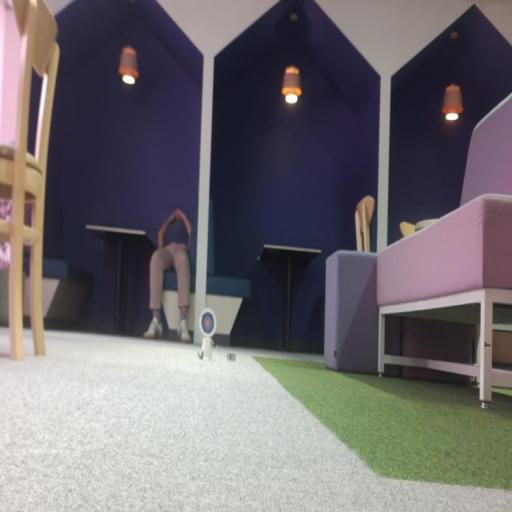target: (200, 308, 216, 338)
